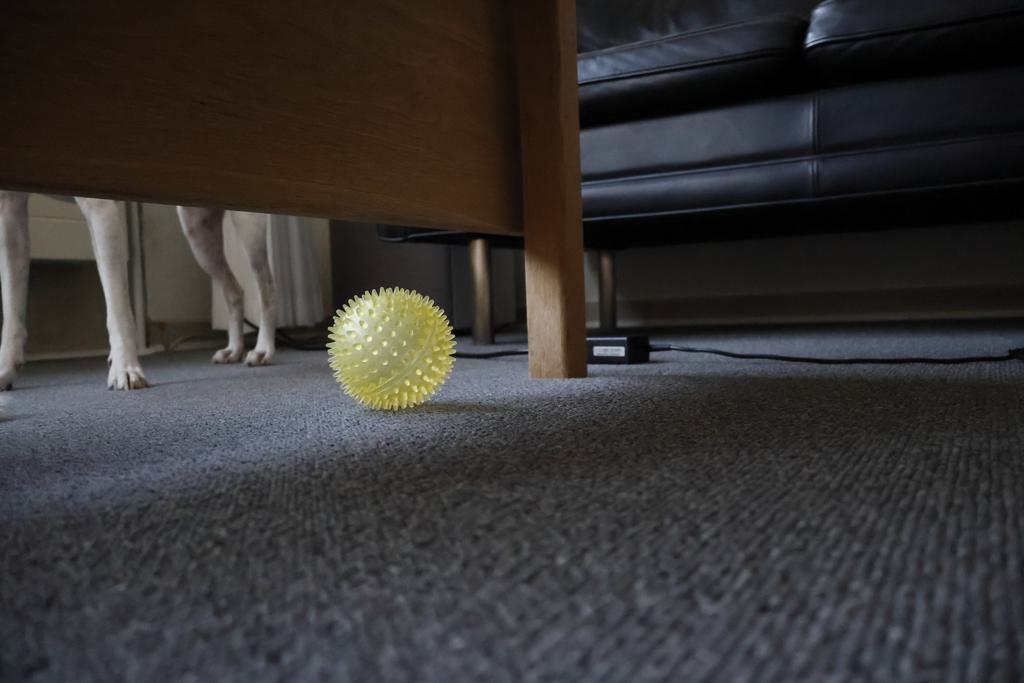Dog: (0, 185, 283, 399)
